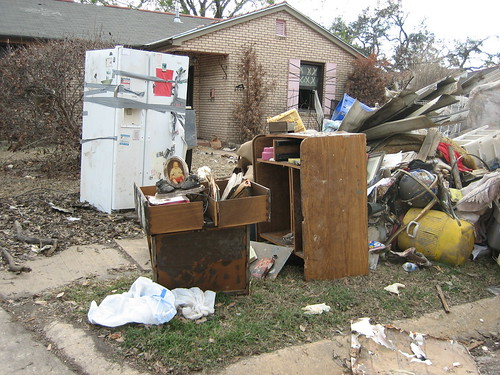building: (1, 1, 340, 125)
trash: (79, 52, 500, 328)
